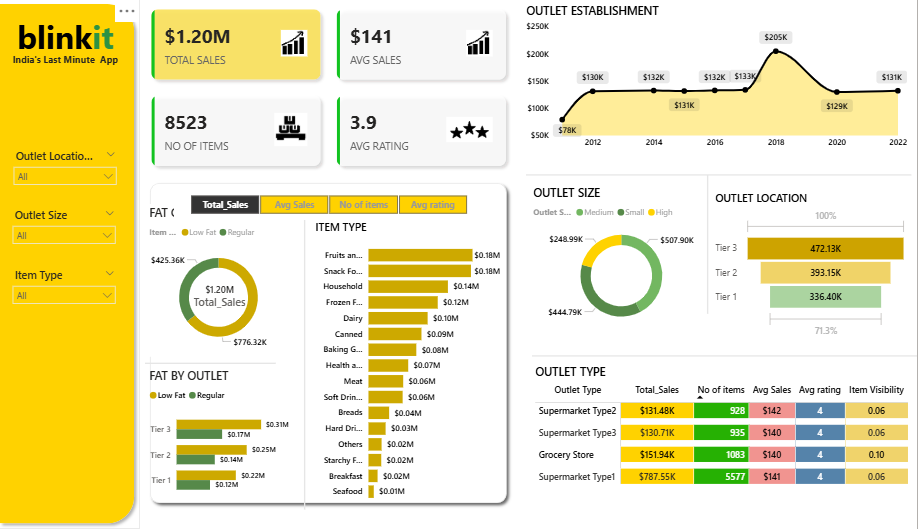

What the dashboard file says about the page in this screenshot:
{"tool":"powerbi","page":{"name":"Page 1","canvas":[1400,800],"ordinal":0},"visuals":[{"type":"shape","box":[10,0,220,800],"z":0},{"type":"textbox","box":[27.6,20.2,181.9,80.8],"z":1000},{"type":"textbox","box":[27.6,79,181.9,40.4],"z":2000},{"type":"cardVisual","fields":{"Data":["BlinkIT Grocery Data.Total_Sales","BlinkIT Grocery Data.Avg Sales","BlinkIT Grocery Data.No of items","BlinkIT Grocery Data.Avg rating"]},"box":[229.7,0,569.6,270.1],"z":3000},{"type":"shape","box":[237,270.1,554.9,499.7],"z":4000},{"type":"donutChart","title":"FAT CONTENT","fields":{"Y":["BlinkIT Grocery Data.Total_Sales"],"Category":["BlinkIT Grocery Data.Item Fat Content"]},"box":[240,310,218.3,230],"z":5000},{"type":"slicer","fields":{"Values":["Metrics.Metrics"]},"box":[281.1,290.3,464.8,40.4],"z":6000},{"type":"cardVisual","fields":{"Data":["BlinkIT Grocery Data.Total_Sales"]},"box":[291.7,403.3,116.7,90],"z":7000},{"type":"clusteredBarChart","title":"FAT BY OUTLET","fields":{"Y":["BlinkIT Grocery Data.Total_Sales"],"Category":["BlinkIT Grocery Data.Outlet Location Type"],"Series":["BlinkIT Grocery Data.Item Fat Content"]},"box":[240,555,220,206.7],"z":8000},{"type":"shape","box":[237.8,538.6,196.9,22],"z":9000},{"type":"shape","box":[456.7,333.9,44.1,436.2],"z":10000},{"type":"barChart","title":"ITEM TYPE","fields":{"Y":["BlinkIT Grocery Data.Total_Sales"],"Category":["BlinkIT Grocery Data.Item Type"]},"box":[489.8,333.9,288.2,433.1],"z":11000},{"type":"slicer","title":"OUTLET ESTABLISHMENT","fields":{"Values":["BlinkIT Grocery Data.Outlet Location Type"]},"box":[30,221.7,175,88.3],"z":12000},{"type":"shape","box":[811.7,236.7,580,60],"z":13000},{"type":"donutChart","title":"OUTLET SIZE","fields":{"Y":["BlinkIT Grocery Data.Total_Sales"],"Category":["BlinkIT Grocery Data.Outlet Size"]},"box":[816.7,280,275,225],"z":14000},{"type":"shape","box":[1063,266.1,44.1,209.4],"z":15000},{"type":"funnel","title":"OUTLET LOCATION","fields":{"Y":["Sum(BlinkIT Grocery Data.Sales)"],"Category":["BlinkIT Grocery Data.Outlet Location Type"]},"box":[1091.7,290,298.3,225],"z":16000},{"type":"shape","box":[820,508.3,580,60],"z":17000},{"type":"pivotTable","title":"OUTLET TYPE","fields":{"Rows":["BlinkIT Grocery Data.Outlet Type"],"Values":["BlinkIT Grocery Data.Total_Sales","BlinkIT Grocery Data.No of items","BlinkIT Grocery Data.Avg Sales","BlinkIT Grocery Data.Avg rating","Avg(BlinkIT Grocery Data.Item Visibility)"]},"box":[820,550,573.3,216.7],"z":18000},{"type":"lineChart","title":"OUTLET ESTABLISHMENT","fields":{"Y":["BlinkIT Grocery Data.Total_Sales"],"Category":["BlinkIT Grocery Data.Outlet Establishment Year"]},"box":[806.7,6.7,583.3,230],"z":19000},{"type":"slicer","title":"OUTLET ESTABLISHMENT","fields":{"Values":["BlinkIT Grocery Data.Outlet Size"]},"box":[28.3,310,175,88.3],"z":20000},{"type":"slicer","title":"OUTLET ESTABLISHMENT","fields":{"Values":["BlinkIT Grocery Data.Item Type"]},"box":[28.3,400,175,88.3],"z":21000}]}

Visuals, with their boxes in screenshot pixels (x1, y1, x2, y2), scaled from the page's 1400x800 canvas onto the 918x529 screenshot:
shape: [left=7, top=0, right=151, bottom=528]
textbox: [left=18, top=13, right=137, bottom=67]
textbox: [left=18, top=52, right=137, bottom=79]
cardVisual - BlinkIT Grocery Data.Total_Sales x BlinkIT Grocery Data.Avg Sales: [left=151, top=0, right=524, bottom=179]
shape: [left=155, top=179, right=519, bottom=509]
"FAT CONTENT" donutChart: [left=157, top=205, right=301, bottom=357]
slicer - Metrics.Metrics: [left=184, top=192, right=489, bottom=219]
cardVisual - BlinkIT Grocery Data.Total_Sales: [left=191, top=267, right=268, bottom=326]
"FAT BY OUTLET" clusteredBarChart: [left=157, top=367, right=302, bottom=504]
shape: [left=156, top=356, right=285, bottom=371]
shape: [left=299, top=221, right=328, bottom=509]
"ITEM TYPE" barChart: [left=321, top=221, right=510, bottom=507]
"OUTLET ESTABLISHMENT" slicer: [left=20, top=147, right=134, bottom=205]
shape: [left=532, top=157, right=913, bottom=196]
"OUTLET SIZE" donutChart: [left=536, top=185, right=716, bottom=334]
shape: [left=697, top=176, right=726, bottom=314]
"OUTLET LOCATION" funnel: [left=716, top=192, right=911, bottom=341]
shape: [left=538, top=336, right=917, bottom=376]
"OUTLET TYPE" pivotTable: [left=538, top=364, right=914, bottom=507]
"OUTLET ESTABLISHMENT" lineChart: [left=529, top=4, right=911, bottom=157]
"OUTLET ESTABLISHMENT" slicer: [left=19, top=205, right=133, bottom=263]
"OUTLET ESTABLISHMENT" slicer: [left=19, top=264, right=133, bottom=323]
